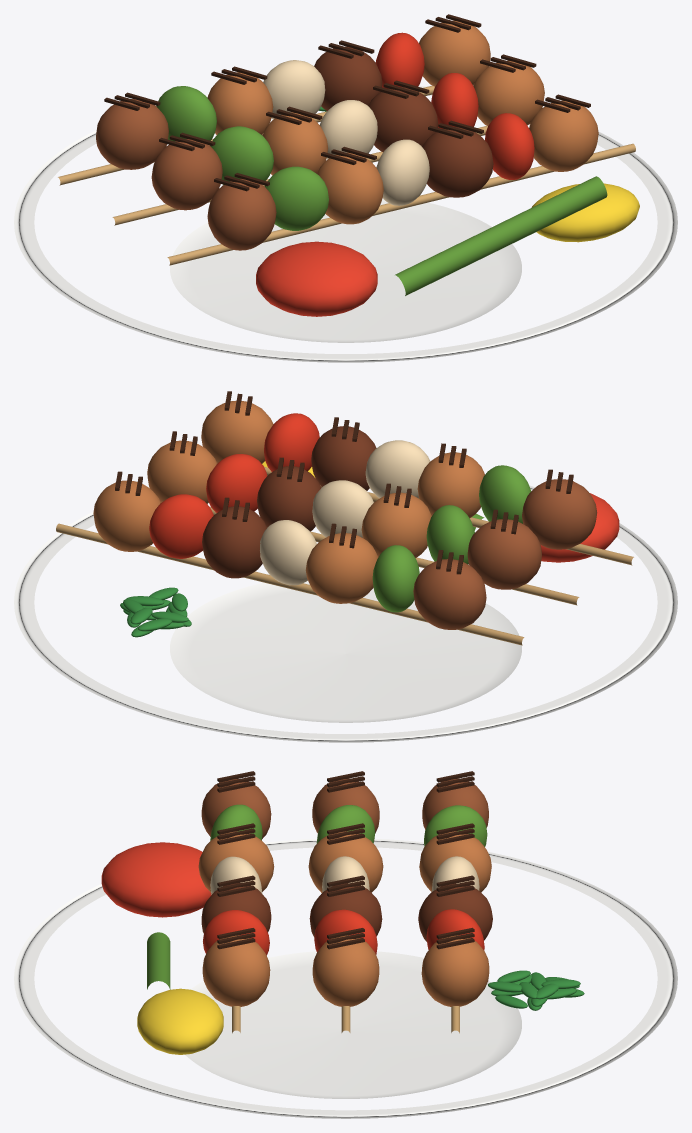
Rendered from turkish-shish-kebab-plated.glb.
The picture shows the model from 3 angles, top to bottom: view 1: azimuth 30°, elevation 25°; view 2: azimuth 150°, elevation 25°; view 3: azimuth 270°, elevation 25°; orthographic projection.
Parts seen in each view (by area): view 1: porcelain-plate, roasted tomato half, roasted green pepper garnish, şiş 1 ingredient 1, şiş 2 ingredient 1, şiş 3 ingredient 5, şiş 3 ingredient 1, şiş 3 ingredient 7, şiş 3 ingredient 3, lemon wedge, şiş 1 ingredient 7, şiş 2 ingredient 7 (+16 smaller); view 2: porcelain-plate, şiş 2 ingredient 1, şiş 3 ingredient 1, şiş 1 ingredient 1, şiş 1 ingredient 3, şiş 1 ingredient 5, şiş 1 ingredient 7, şiş 2 ingredient 3, şiş 3 ingredient 7, şiş 1 ingredient 6, şiş 3 ingredient 3, şiş 2 ingredient 7 (+14 smaller); view 3: porcelain-plate, roasted tomato half, lemon wedge, şiş 1 ingredient 7, şiş 3 ingredient 7, şiş 2 ingredient 7, şiş 2 ingredient 3, şiş 3 ingredient 3, şiş 1 ingredient 3, şiş 1 ingredient 5, şiş 3 ingredient 1, şiş 2 ingredient 5 (+13 smaller).
Boxes of the visible parts, x1,y1,x2,y2 form: porcelain-plate: (14,85,677,362); roasted tomato half: (256,241,377,316); roasted green pepper garnish: (395,176,607,295); şiş 1 ingredient 1: (96,99,168,169); şiş 2 ingredient 1: (151,139,222,210); şiş 3 ingredient 5: (422,127,493,197); şiş 3 ingredient 1: (207,178,276,250); şiş 3 ingredient 7: (529,100,598,171); şiş 3 ingredient 3: (317,152,383,224); lemon wedge: (531,183,639,242); şiş 1 ingredient 7: (419,20,490,86); şiş 2 ingredient 7: (473,60,544,125); porcelain-plate: (14,485,677,742); şiş 2 ingredient 1: (467,519,541,589); şiş 3 ingredient 1: (522,479,597,549); şiş 1 ingredient 1: (413,559,486,629); şiş 1 ingredient 3: (305,533,378,603); şiş 1 ingredient 5: (202,506,266,578); şiş 1 ingredient 7: (93,480,160,551); şiş 2 ingredient 3: (361,492,431,557); şiş 3 ingredient 7: (201,400,273,463); şiş 1 ingredient 6: (149,494,213,558); şiş 3 ingredient 3: (417,452,484,518); şiş 2 ingredient 7: (147,440,217,503); porcelain-plate: (14,839,677,1118); roasted tomato half: (101,842,211,917); lemon wedge: (137,988,223,1054); şiş 1 ingredient 7: (421,935,489,1006); şiş 3 ingredient 7: (202,935,270,1006); şiş 2 ingredient 7: (312,935,379,1006); şiş 2 ingredient 3: (308,831,383,892); şiş 3 ingredient 3: (198,831,274,892); şiş 1 ingredient 3: (419,831,491,892); şiş 1 ingredient 5: (418,883,492,941); şiş 3 ingredient 1: (201,778,271,838); şiş 2 ingredient 5: (309,883,382,937).
Size of the model in its own units: 0.3332 by 0.0967 by 0.3332.
